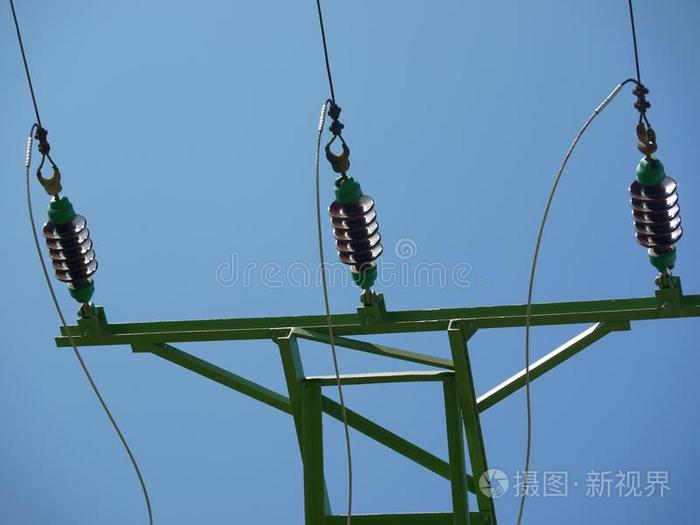insulator: (629, 175, 685, 249), (42, 213, 98, 284), (329, 196, 385, 267)
